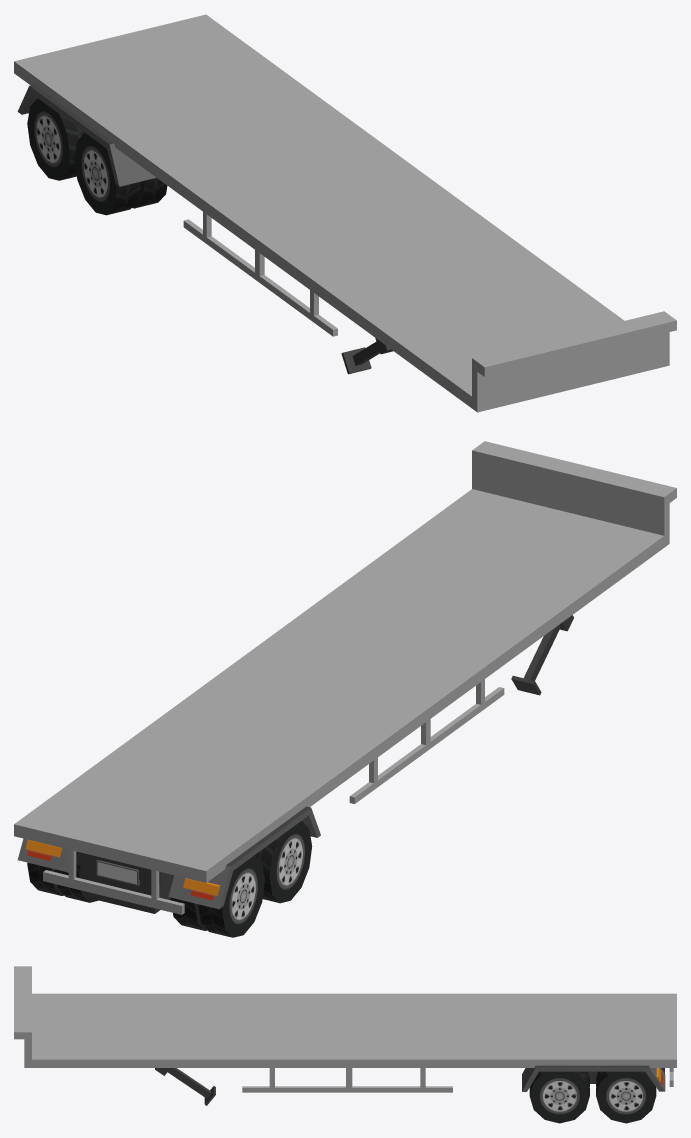
Rendered from TruckTrailerC.fbx.
The picture shows the model from 3 angles, top to bottom: view 1: azimuth 30°, elevation 25°; view 2: azimuth 150°, elevation 25°; view 3: azimuth 270°, elevation 25°; orthographic projection. The views are drawn at different scales.
Visible parts, largest first — view 1: TruckTrailerC, TireRX, TireRY, TruckTrailerPivots; view 2: TruckTrailerC, TireRY, TireRX, TruckTrailerPivots, TireLY; view 3: TruckTrailerC, TireLX, TireLY, TruckTrailerPivots.
Part boxes in pixels (x1,y1,x2,y2): TruckTrailerC: (14,14,676,412); TireRX: (74,133,167,215); TireRY: (27,98,84,180); TruckTrailerPivots: (341,338,393,374); TruckTrailerC: (14,441,676,914); TireRY: (170,855,264,937); TireRX: (254,821,312,903); TruckTrailerPivots: (511,615,573,695); TireLY: (27,863,98,902); TruckTrailerC: (14,966,676,1092); TireLX: (529,1071,589,1123); TireLY: (596,1071,656,1123); TruckTrailerPivots: (155,1068,215,1105).
Size of the model in its own units: 232 by 141 by 938.
